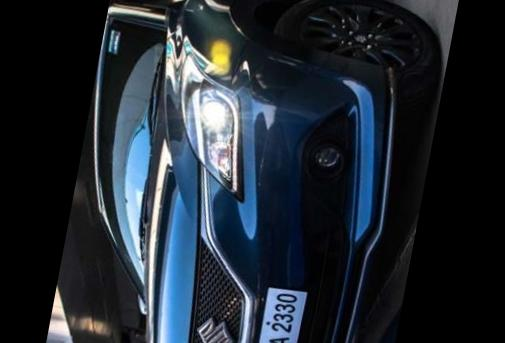plate: (245, 279, 313, 343)
